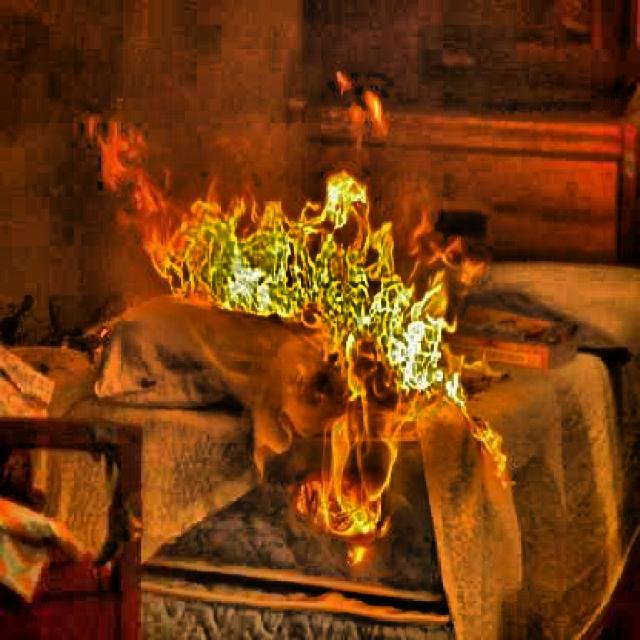Fire: (89, 119, 518, 530)
